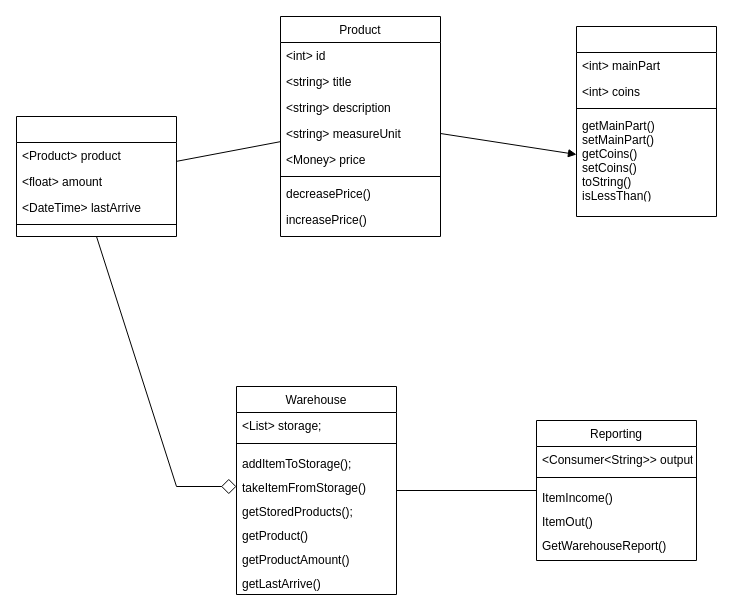
Image size: 733x611. Some labels were removed from this diagram. Here are the shapes that lost their labels. From the top down, the box of each, then its label:
(576, 26, 716, 216): Money
(16, 116, 176, 236): StoredProduct
